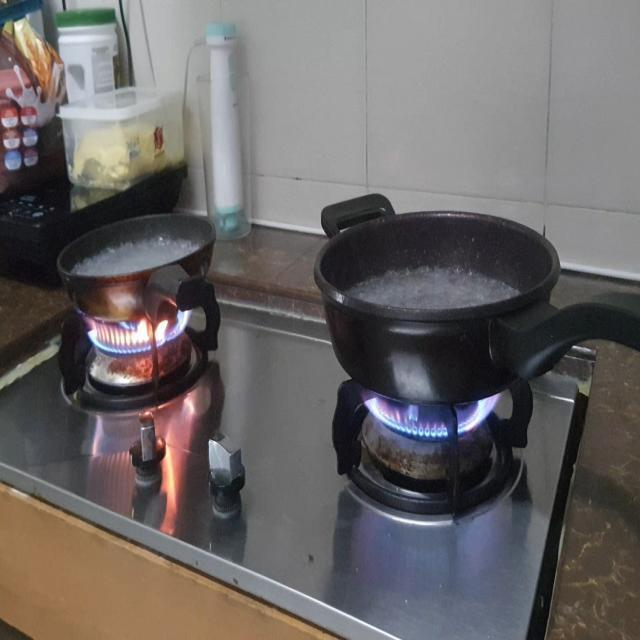smoke: (364, 386, 506, 442), (82, 296, 196, 358)
